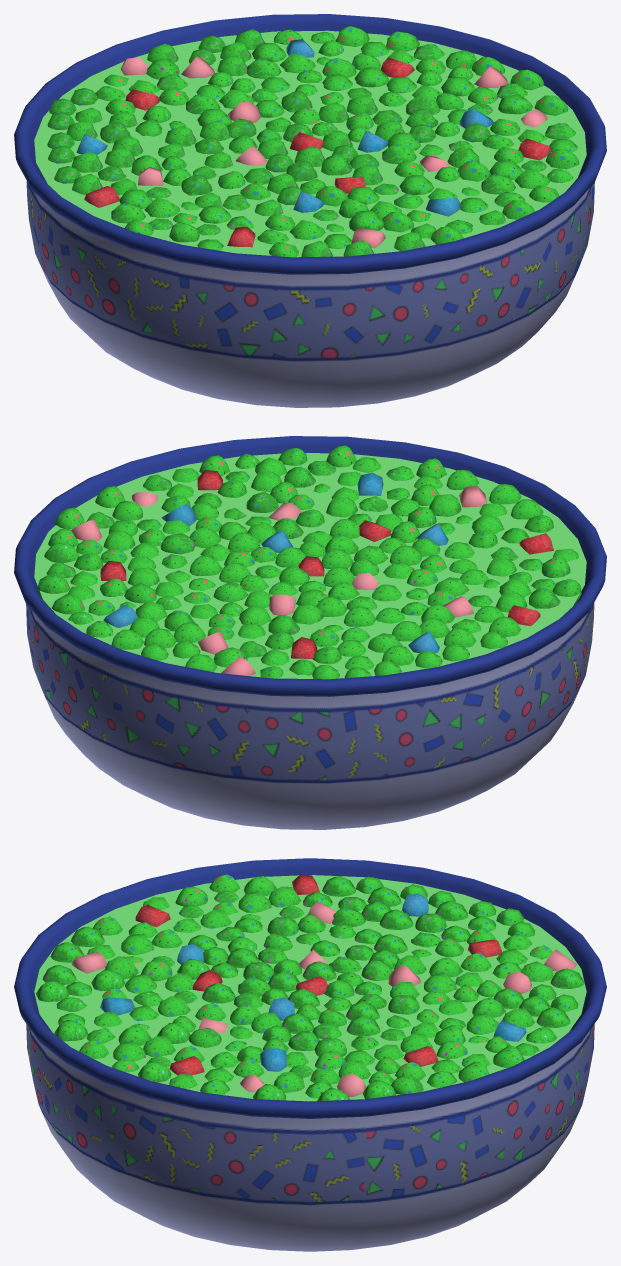
Rendered from cereal_bowl_full.fbx.
3 views of the same model, one above another, from view 1: azimuth 30°, elevation 25°; view 2: azimuth 150°, elevation 25°; view 3: azimuth 270°, elevation 25° (orthographic).
Parts seen in each view (by area): view 1: cereal_bowl, cereal_milk, cereal_puff_low_115, cereal_puff_low_74, cereal_puff_low_76, cereal_puff_low_60, cereal_puff_low_85, cereal_puff_low_166, cereal_puff_low_103, marshmallow_lowpoly_20, cereal_puff_low_167, cereal_puff_low_160 (+2 smaller); view 2: cereal_bowl, cereal_milk, cereal_puff_low_115, cereal_puff_low_111, cereal_puff_low_165, cereal_puff_low_166, cereal_puff_low_34, marshmallow_lowpoly_08, cereal_puff_low_40, cereal_puff_low_52, cereal_puff_low_152; view 3: cereal_bowl, cereal_milk, cereal_puff_low_158, marshmallow_lowpoly_07, cereal_puff_low_87, cereal_puff_low_147, cereal_puff_low_93, cereal_puff_low_154, cereal_puff_low_157, cereal_puff_low_7, cereal_puff_low_38, cereal_puff_low_159 (+7 smaller).
Boxes of the visible parts, x1,y1,x2,y2 form: cereal_bowl: (14,14,606,407); cereal_milk: (34,30,586,257); cereal_puff_low_115: (349,211,383,231); cereal_puff_low_74: (354,67,389,87); cereal_puff_low_76: (498,94,532,114); cereal_puff_low_60: (399,175,434,194); cereal_puff_low_85: (247,58,281,78); cereal_puff_low_166: (386,31,419,51); cereal_puff_low_103: (481,174,515,194); marshmallow_lowpoly_20: (84,186,119,207); cereal_puff_low_167: (335,26,369,46); cereal_puff_low_160: (545,149,579,169); cereal_bowl: (14,436,606,829); cereal_milk: (34,453,586,678); cereal_puff_low_115: (429,494,461,516); cereal_puff_low_111: (160,533,195,554); cereal_puff_low_165: (44,542,79,562); cereal_puff_low_166: (37,573,69,605); cereal_puff_low_34: (344,606,376,626); marshmallow_lowpoly_08: (357,472,383,495); cereal_puff_low_40: (189,555,222,575); cereal_puff_low_52: (246,492,278,512); cereal_puff_low_152: (489,484,521,504); cereal_bowl: (14,858,606,1251); cereal_milk: (34,875,586,1101); cereal_puff_low_158: (36,980,69,1005); marshmallow_lowpoly_07: (260,1048,286,1071); cereal_puff_low_87: (238,891,271,913); cereal_puff_low_147: (536,1007,571,1032); cereal_puff_low_93: (121,934,154,955); cereal_puff_low_154: (322,876,355,896); cereal_puff_low_157: (91,969,124,991); cereal_puff_low_7: (201,983,235,1003); cereal_puff_low_38: (379,909,413,929); cereal_puff_low_159: (54,1020,87,1041).
Size of the model in its own units: 1773 by 707 by 1773.
1 material, 1 textured.
